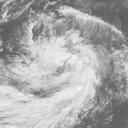cyclone: (15, 23, 102, 113)
